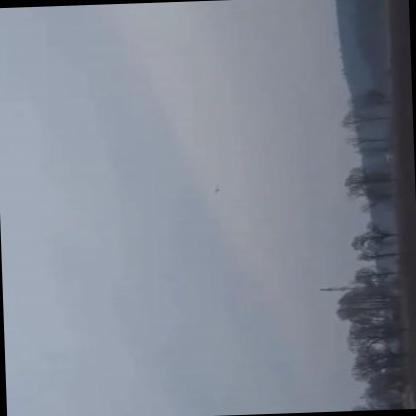plane: (209, 183, 225, 199)
